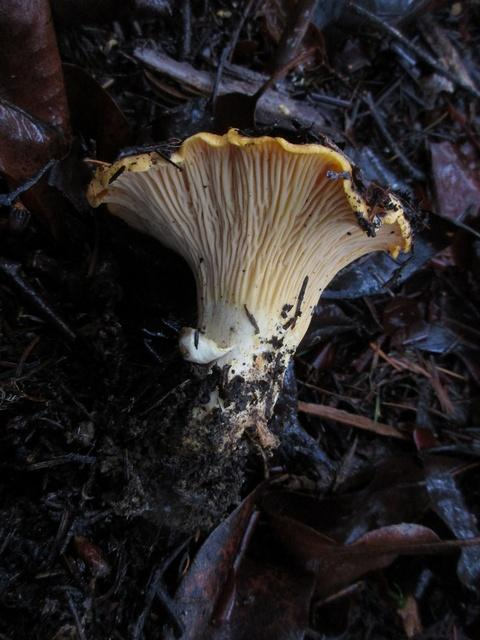Edible Mushroom: (84, 126, 414, 464)
